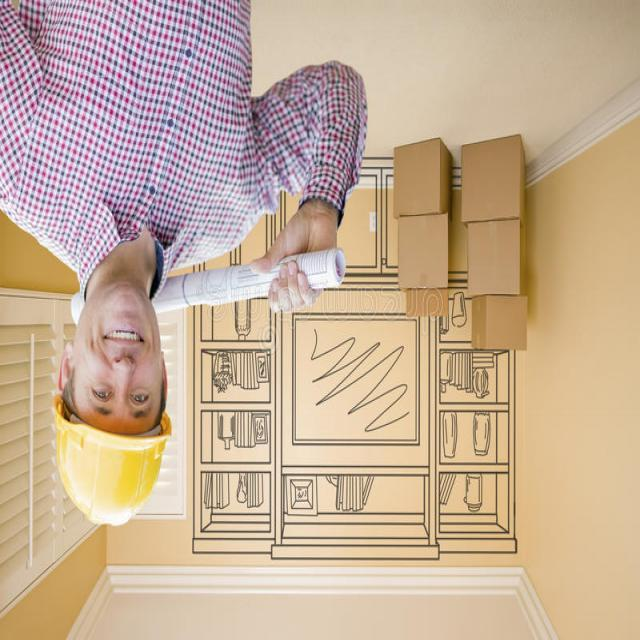safetyhelmet: (38, 270, 172, 536)
